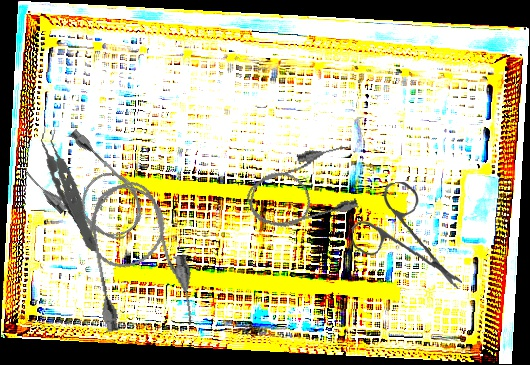Cannula: (76, 174, 202, 343), (21, 124, 157, 257), (239, 139, 366, 239)
Iris Scissors: (349, 179, 463, 295)
Tissue Forceps: (25, 120, 116, 252)
